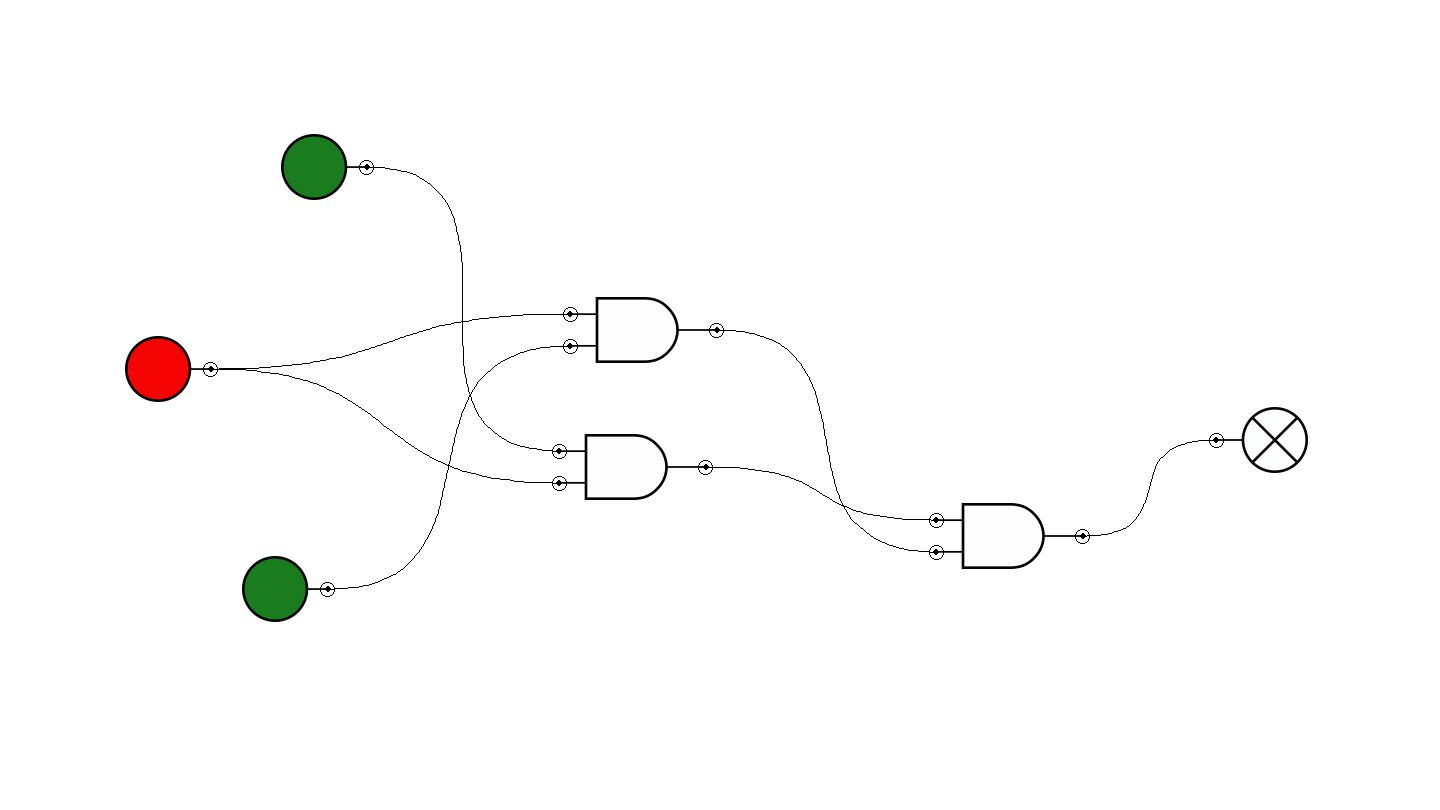and: (563, 297, 724, 363), (552, 434, 713, 500), (929, 503, 1090, 569)
bulb: (1209, 407, 1308, 473)
switch_False: (125, 336, 218, 402)
switch_True: (242, 556, 335, 622), (281, 134, 374, 200)
